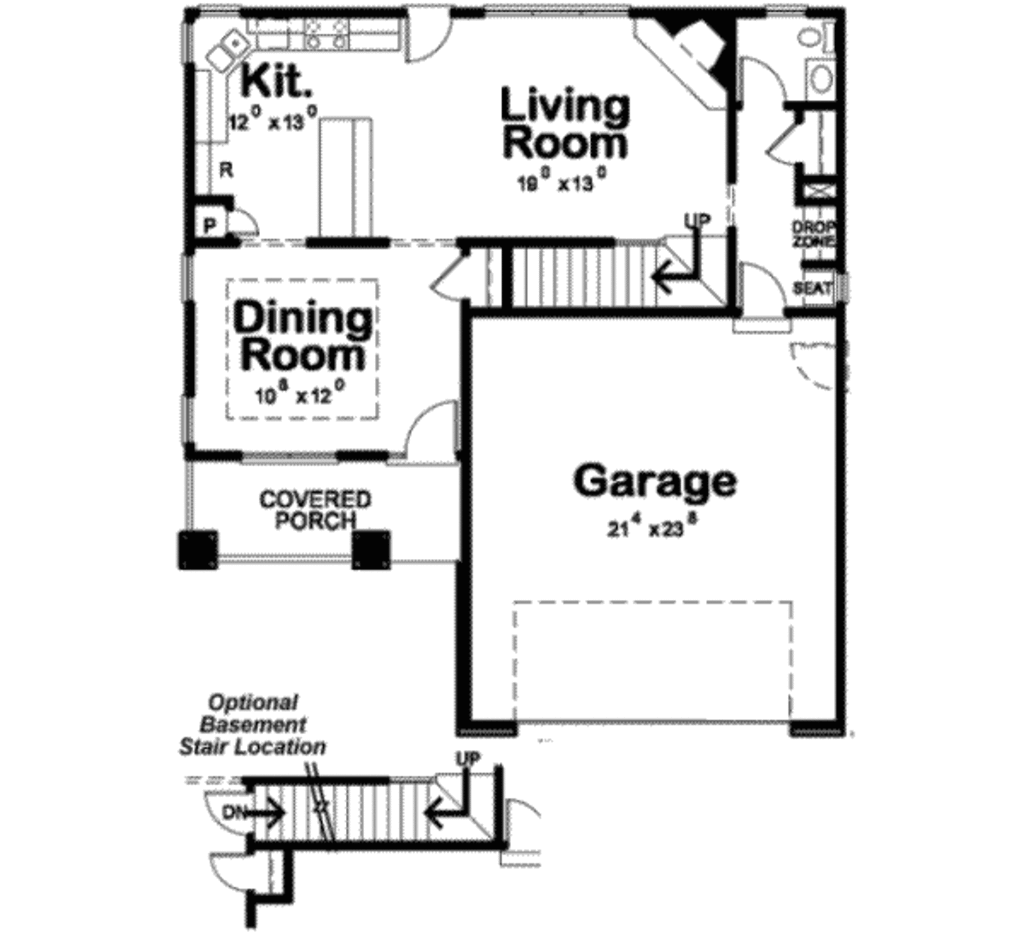door: (403, 399, 485, 480), (730, 262, 795, 338), (779, 331, 857, 394), (399, 1, 461, 68), (736, 56, 798, 112), (427, 234, 472, 308), (202, 786, 264, 838), (208, 843, 261, 899), (763, 110, 810, 173)
large_sink: (785, 21, 839, 54)
small_sink: (798, 54, 846, 107)
stairs: (254, 777, 501, 899), (469, 232, 728, 321)
twin_sink: (199, 22, 254, 71)
window: (243, 440, 343, 469), (173, 395, 208, 452), (175, 246, 204, 306)
